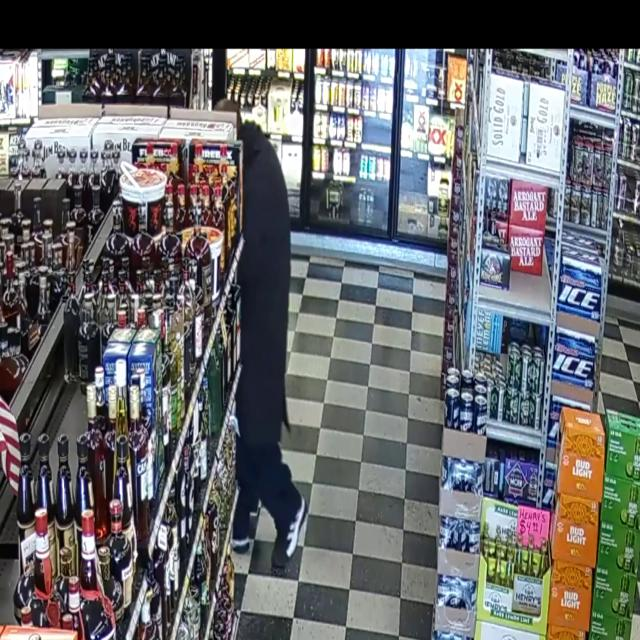normal: (197, 67, 359, 612)
